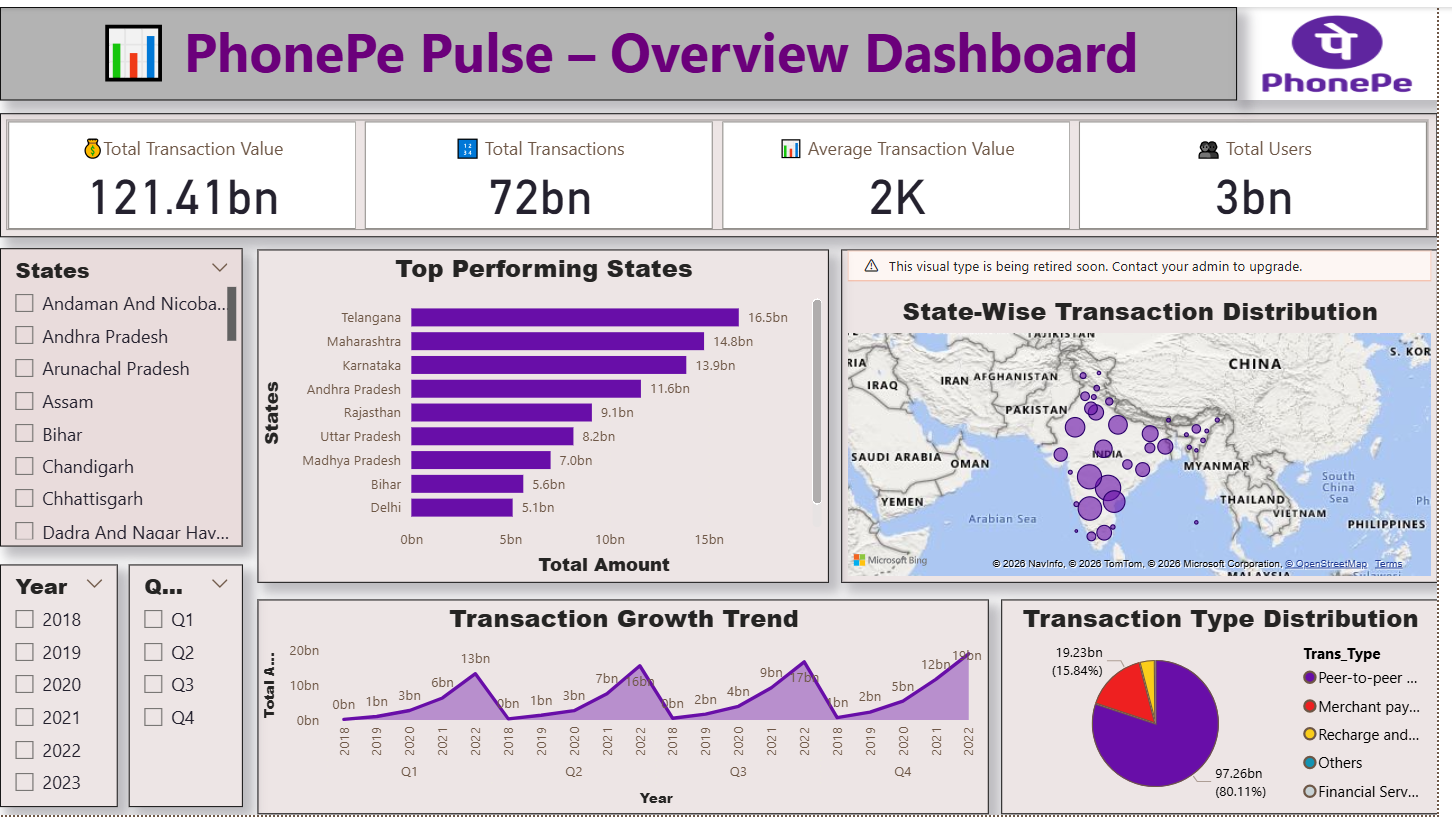

Layout of this report page (visuals, bound fields, positions):
{"tool":"powerbi","page":{"name":"Overview","canvas":[1280,720],"ordinal":0},"visuals":[{"type":"cardVisual","fields":{"Data":["aggregated_transaction.Total Amount","aggregated_transaction.Total Transactions","aggregated_transaction.Avg Transaction","aggregated_transaction.Total user"]},"box":[0,94.5,1279.8,110.4],"z":0},{"type":"slicer","fields":{"Values":["State_Table.States"]},"box":[0,214.8,216.4,265.6],"z":1000},{"type":"map","title":"State-Wise Transaction Distribution","fields":{"Category":["State_Table.States"],"Size":["aggregated_transaction.Total Amount"]},"box":[749.5,216.5,531.1,297.1],"z":2000},{"type":"clusteredBarChart","title":"Top Performing States","fields":{"Category":["State_Table.States"],"Y":["aggregated_transaction.Total Amount"]},"box":[229.1,216.5,508.7,297.1],"z":3000},{"type":"lineChart","title":"Transaction Growth Trend","fields":{"Category":["Date_table.Quarter","Date_table.Year"],"Y":["aggregated_transaction.Total Amount"]},"box":[229.1,528.2,651.5,191.3],"z":4000},{"type":"slicer","fields":{"Values":["Date_table.Year"]},"box":[0,496.7,104.9,216.4],"z":5000},{"type":"slicer","fields":{"Values":["Date_table.Quarter"]},"box":[114.8,496.7,101.6,216.4],"z":6000},{"type":"pieChart","title":"Transaction Type Distribution","fields":{"Category":["aggregated_transaction.Trans_Type"],"Y":["aggregated_transaction.Total Amount"]},"box":[891.3,528.2,389.3,191.3],"z":7000},{"type":"textbox","box":[0,0,1101.8,83.4],"z":8000},{"type":"image","box":[1101.8,0,177.9,83.4],"z":8001}]}

Visuals, with their boxes in screenshot pixels (x1, y1, x2, y2), scaled from the page's 1280x720 canvas onto the 1452x825 screenshot:
cardVisual - aggregated_transaction.Total Amount x aggregated_transaction.Total Transactions: [left=0, top=108, right=1451, bottom=235]
slicer - State_Table.States: [left=0, top=246, right=245, bottom=550]
"State-Wise Transaction Distribution" map: [left=850, top=248, right=1451, bottom=588]
"Top Performing States" clusteredBarChart: [left=260, top=248, right=837, bottom=588]
"Transaction Growth Trend" lineChart: [left=260, top=605, right=999, bottom=824]
slicer - Date_table.Year: [left=0, top=569, right=119, bottom=817]
slicer - Date_table.Quarter: [left=130, top=569, right=245, bottom=817]
"Transaction Type Distribution" pieChart: [left=1011, top=605, right=1451, bottom=824]
textbox: [left=0, top=0, right=1250, bottom=96]
image: [left=1250, top=0, right=1451, bottom=96]
